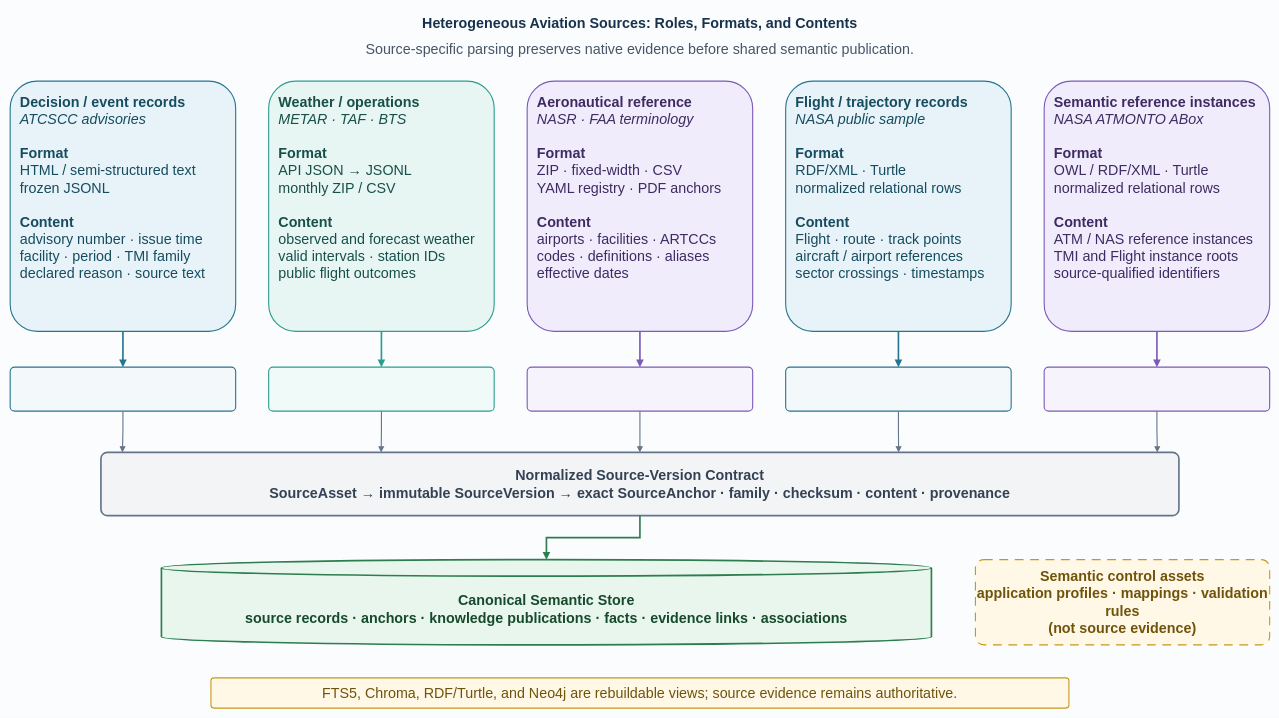
Some shapes in this 1279 by 718 pixel diagram are drawn without their labels. Here are the shapes that lost their labels. From the top down, the box of each, then its label:
(9, 366, 236, 411): Advisory / evidence adapter
(268, 366, 494, 411): Weather / outcome adapters
(526, 366, 753, 411): Authority and ID resolver
(785, 366, 1011, 411): Flight–Airspace mapper
(1043, 366, 1270, 411): ATMONTO ABox loader
